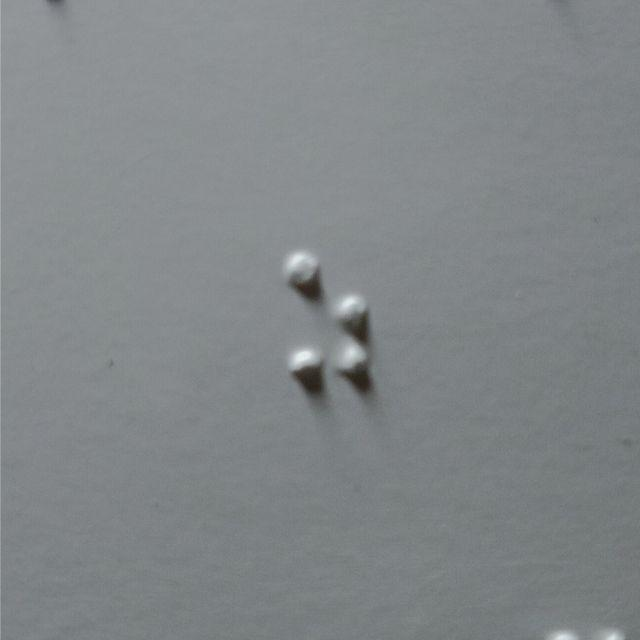z: (283, 250, 376, 383)
